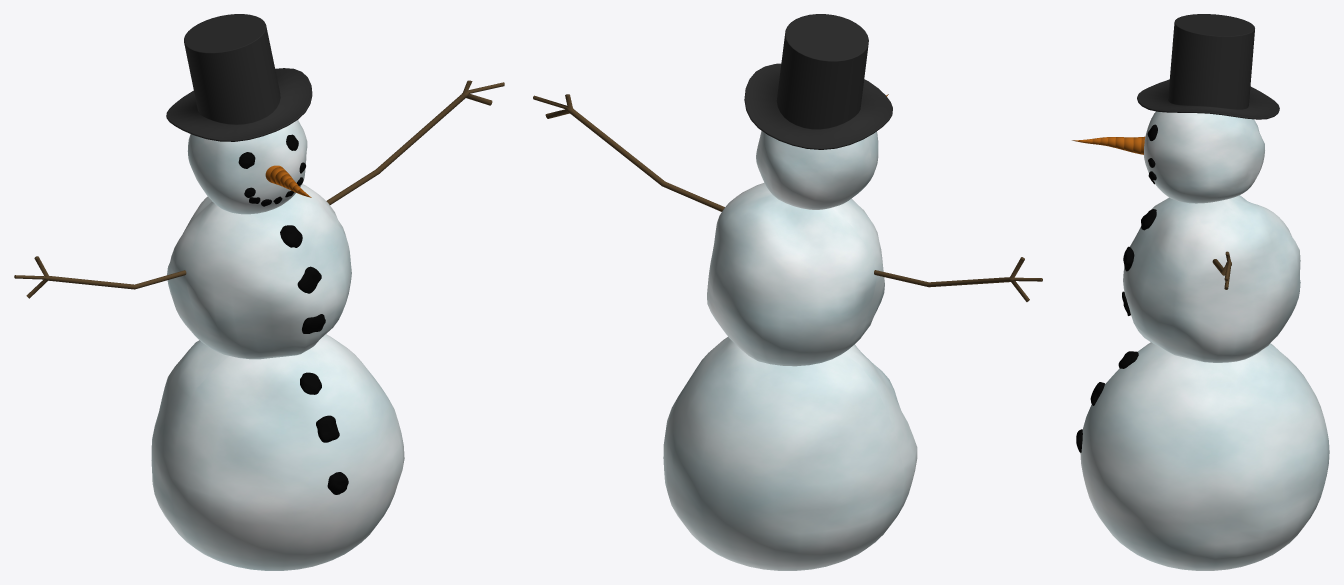
File: snowMan.glb
The picture shows the model from 3 angles, left to right: view 1: azimuth 30°, elevation 25°; view 2: azimuth 150°, elevation 25°; view 3: azimuth 270°, elevation 25°; orthographic projection. The views are drawn at different scales.
Visible parts, largest first — view 1: body, torso, topHat, head, leftArm, rightArm; view 2: body, torso, topHat, head, leftArm, rightArm; view 3: body, torso, topHat, head, nose.
Part boxes in pixels (x1,y1,x2,y2): body: (151, 334, 404, 570); torso: (167, 184, 351, 359); topHat: (166, 14, 312, 141); head: (187, 120, 307, 214); leftArm: (326, 80, 504, 204); rightArm: (14, 256, 186, 298); body: (663, 337, 917, 570); torso: (707, 183, 884, 366); topHat: (744, 14, 892, 149); head: (756, 131, 878, 209); leftArm: (533, 94, 724, 211); rightArm: (874, 257, 1042, 301); body: (1080, 342, 1329, 570); torso: (1123, 195, 1300, 362); topHat: (1137, 14, 1279, 119); head: (1144, 111, 1264, 203); nose: (1072, 136, 1145, 154).
Size of the model in its own units: 2.25 by 2.3 by 1.05.
Materials: 1 (1 with a texture image).
